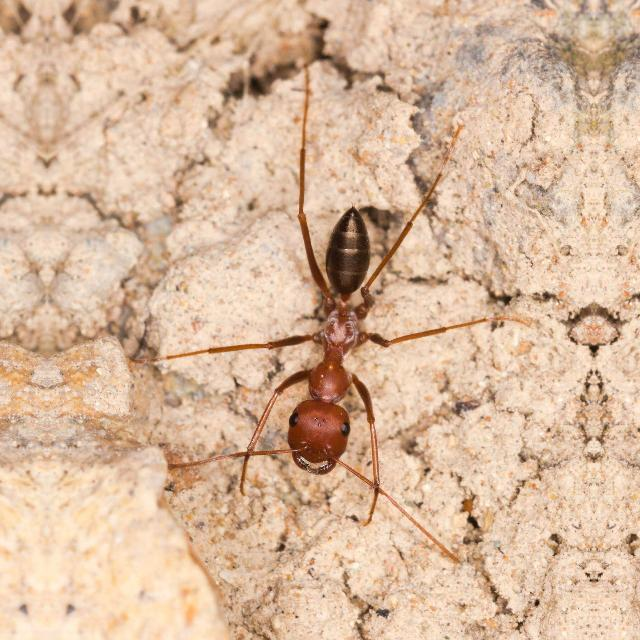Cataglyphis: (255, 178, 420, 500)
